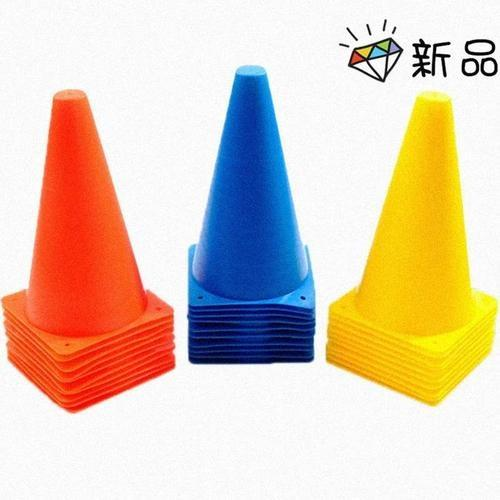cone_barrel: (339, 89, 491, 339), (9, 91, 155, 341), (186, 67, 314, 300)
